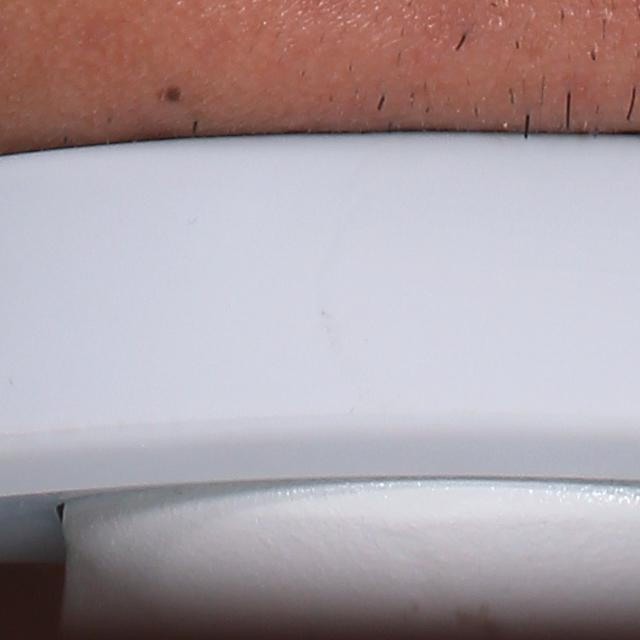nevus: (160, 77, 187, 106)
